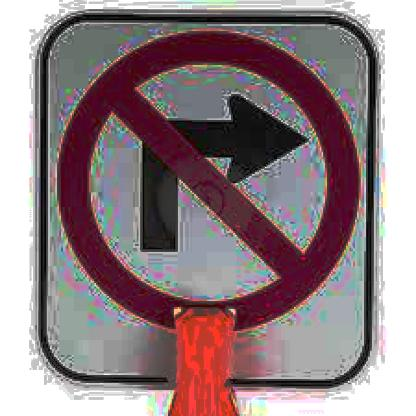No right turn: (63, 30, 362, 333)
